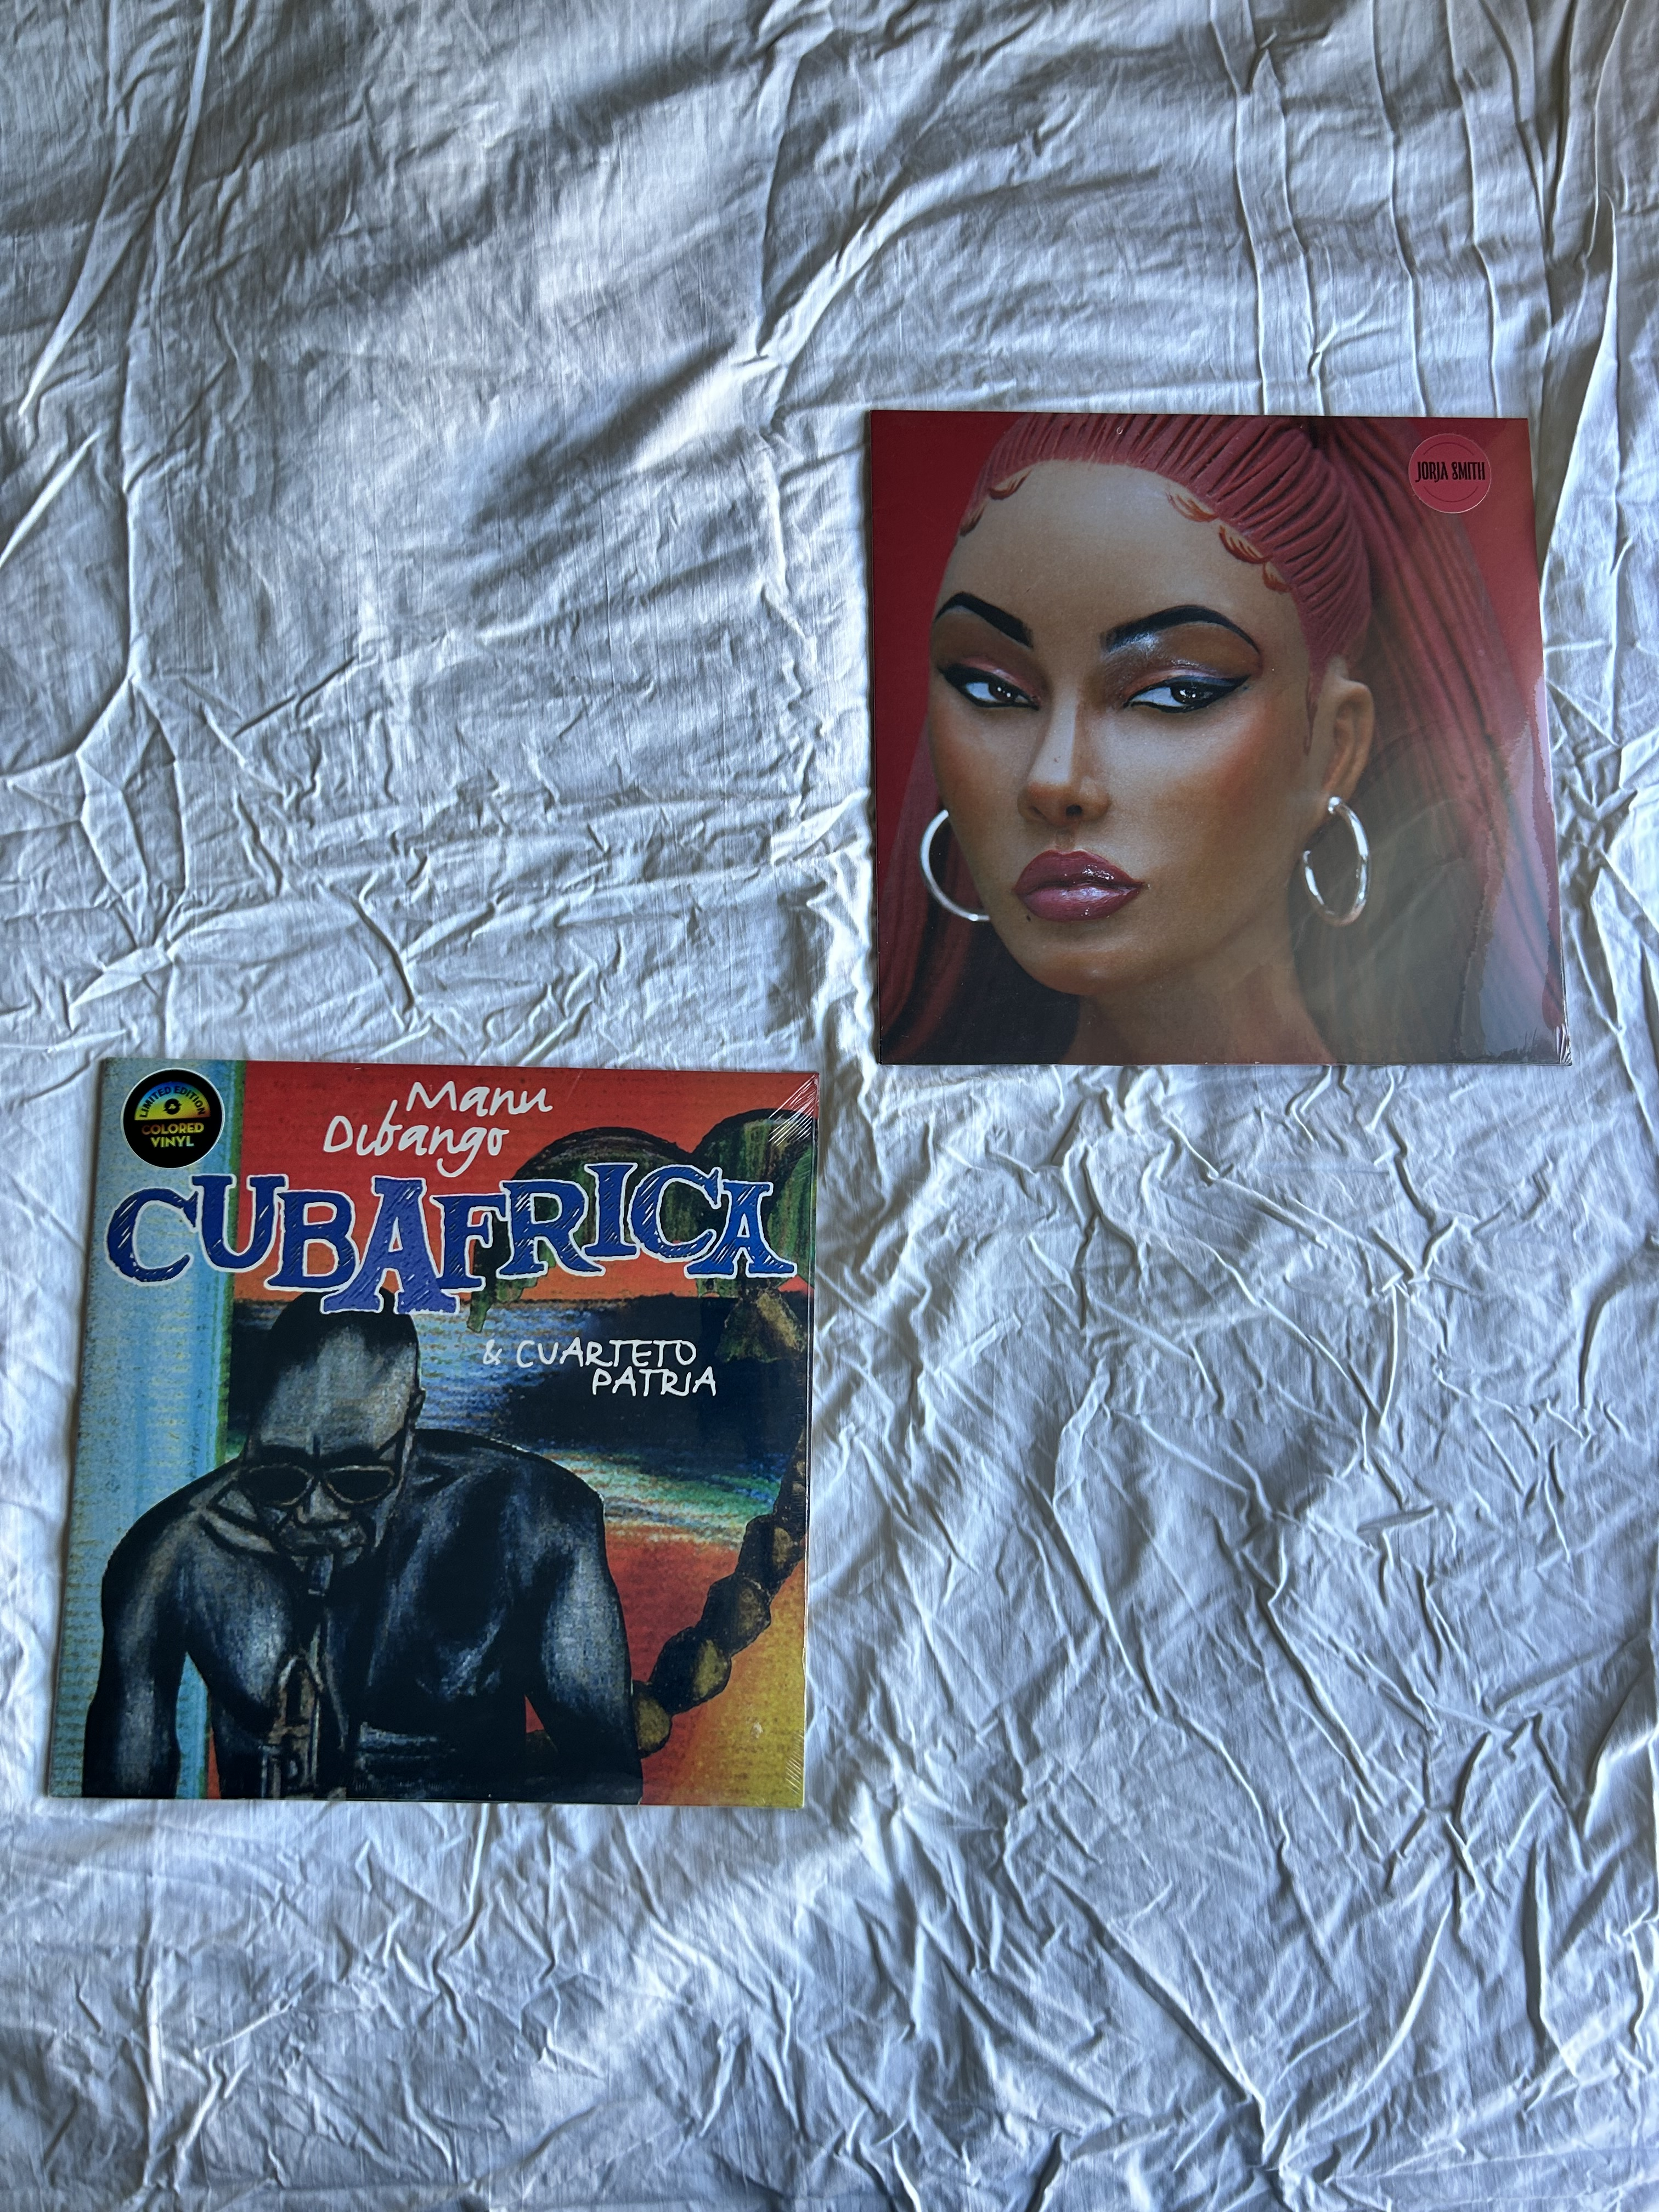jorja smith_be right back: (854, 416, 1561, 1073)
manu dibango_cubafrica: (91, 1021, 854, 1796)
